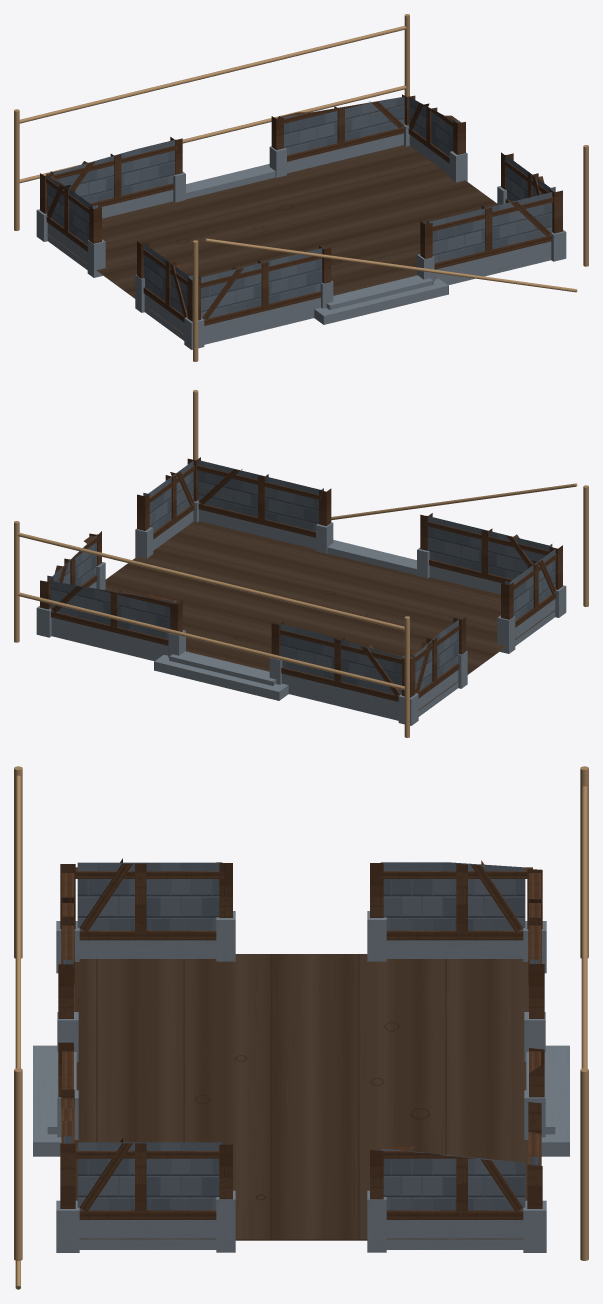
The model's file is Building5Stage2.glb.
3 views of the same model, one above another, from view 1: azimuth 30°, elevation 25°; view 2: azimuth 150°, elevation 25°; view 3: azimuth 270°, elevation 25° (orthographic). The views are drawn at different scales.
Visible parts, largest first — view 1: building5_stage2; view 2: building5_stage2; view 3: building5_stage2.
Part boxes in pixels (bbox=[...]): building5_stage2: bbox=[14, 14, 588, 361]; building5_stage2: bbox=[14, 390, 588, 737]; building5_stage2: bbox=[14, 766, 588, 1289].
Bounding box in the file's own units: 14.12 × 4.92 × 11.23.
2 materials, 1 textured.
